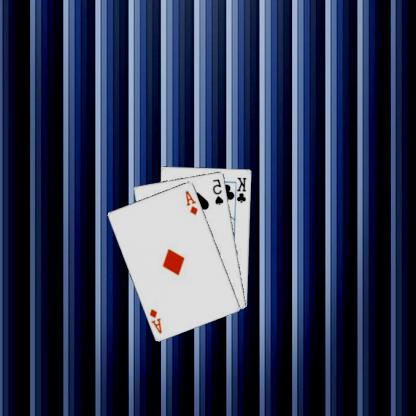5S: (212, 176, 226, 206)
AD: (185, 188, 201, 216), (149, 306, 165, 334)
KC: (234, 175, 249, 206)
